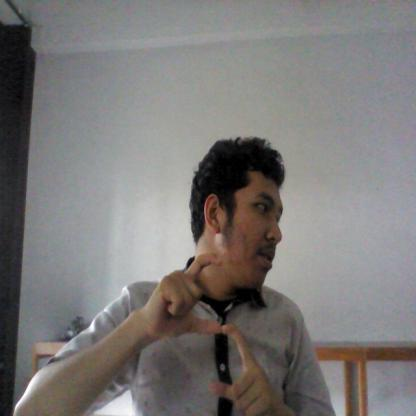S: (142, 242, 280, 416)
